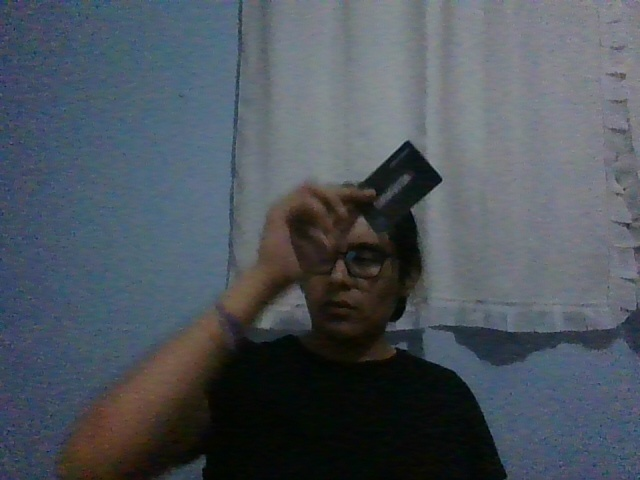tarjeta: (356, 139, 444, 235)
